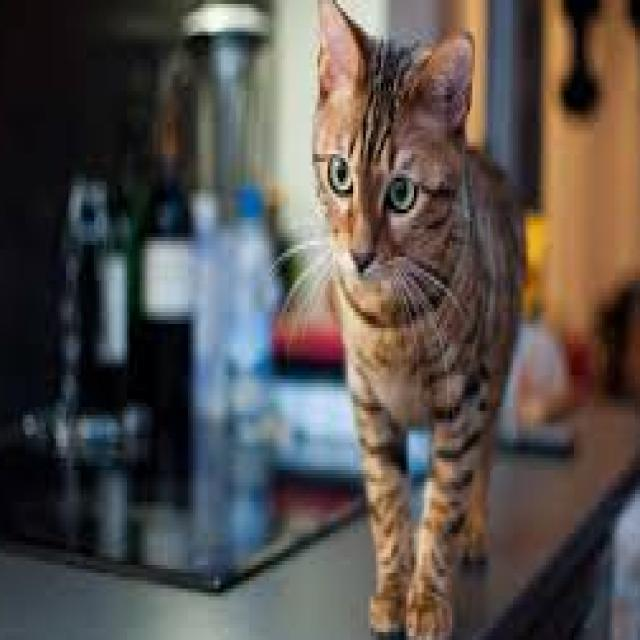Toyger: (305, 0, 531, 640)
